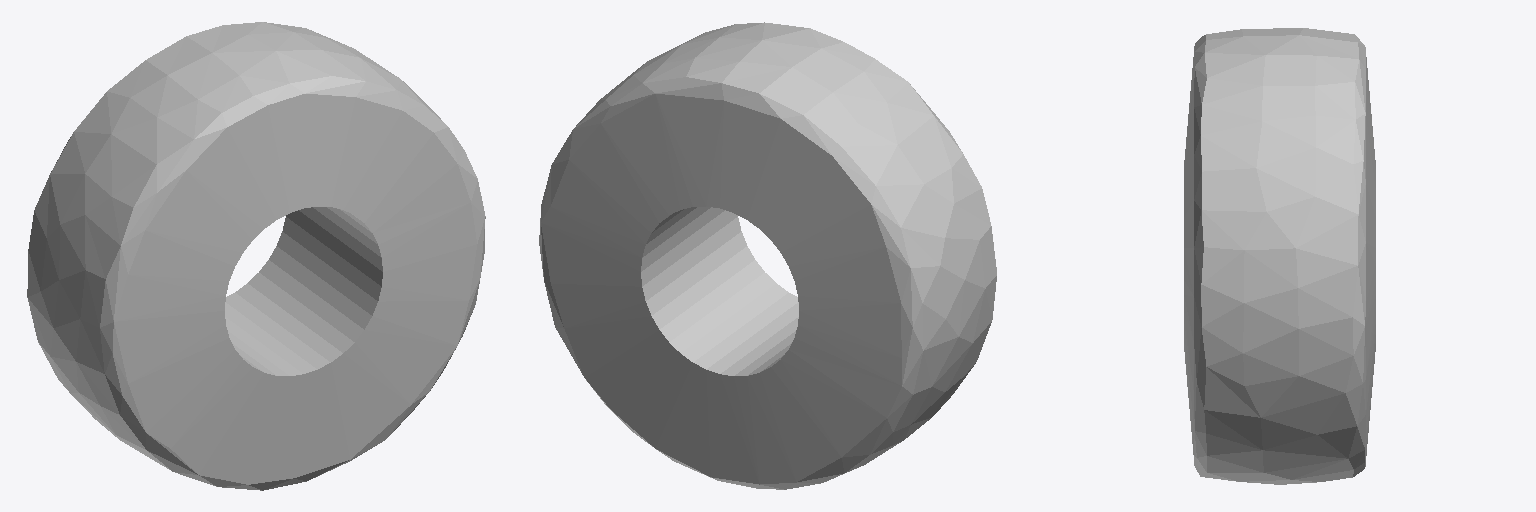
Rendered from caster_2.obj.
3 views of the same model, side by side, from view 1: azimuth 30°, elevation 25°; view 2: azimuth 150°, elevation 25°; view 3: azimuth 270°, elevation 25° (orthographic).
Parts seen in each view (by area): view 1: caster_2; view 2: caster_2; view 3: caster_2.
Part boxes in pixels (x1,y1,x2,y2): caster_2: (27,22,485,490); caster_2: (539,22,996,489); caster_2: (1184,28,1375,484).
Bounding box in the file's own units: 0.0498 × 0.0501 × 0.021.